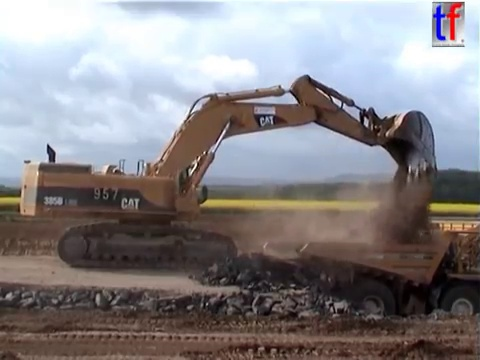excavator: (17, 71, 442, 272)
truck: (260, 216, 480, 338)
